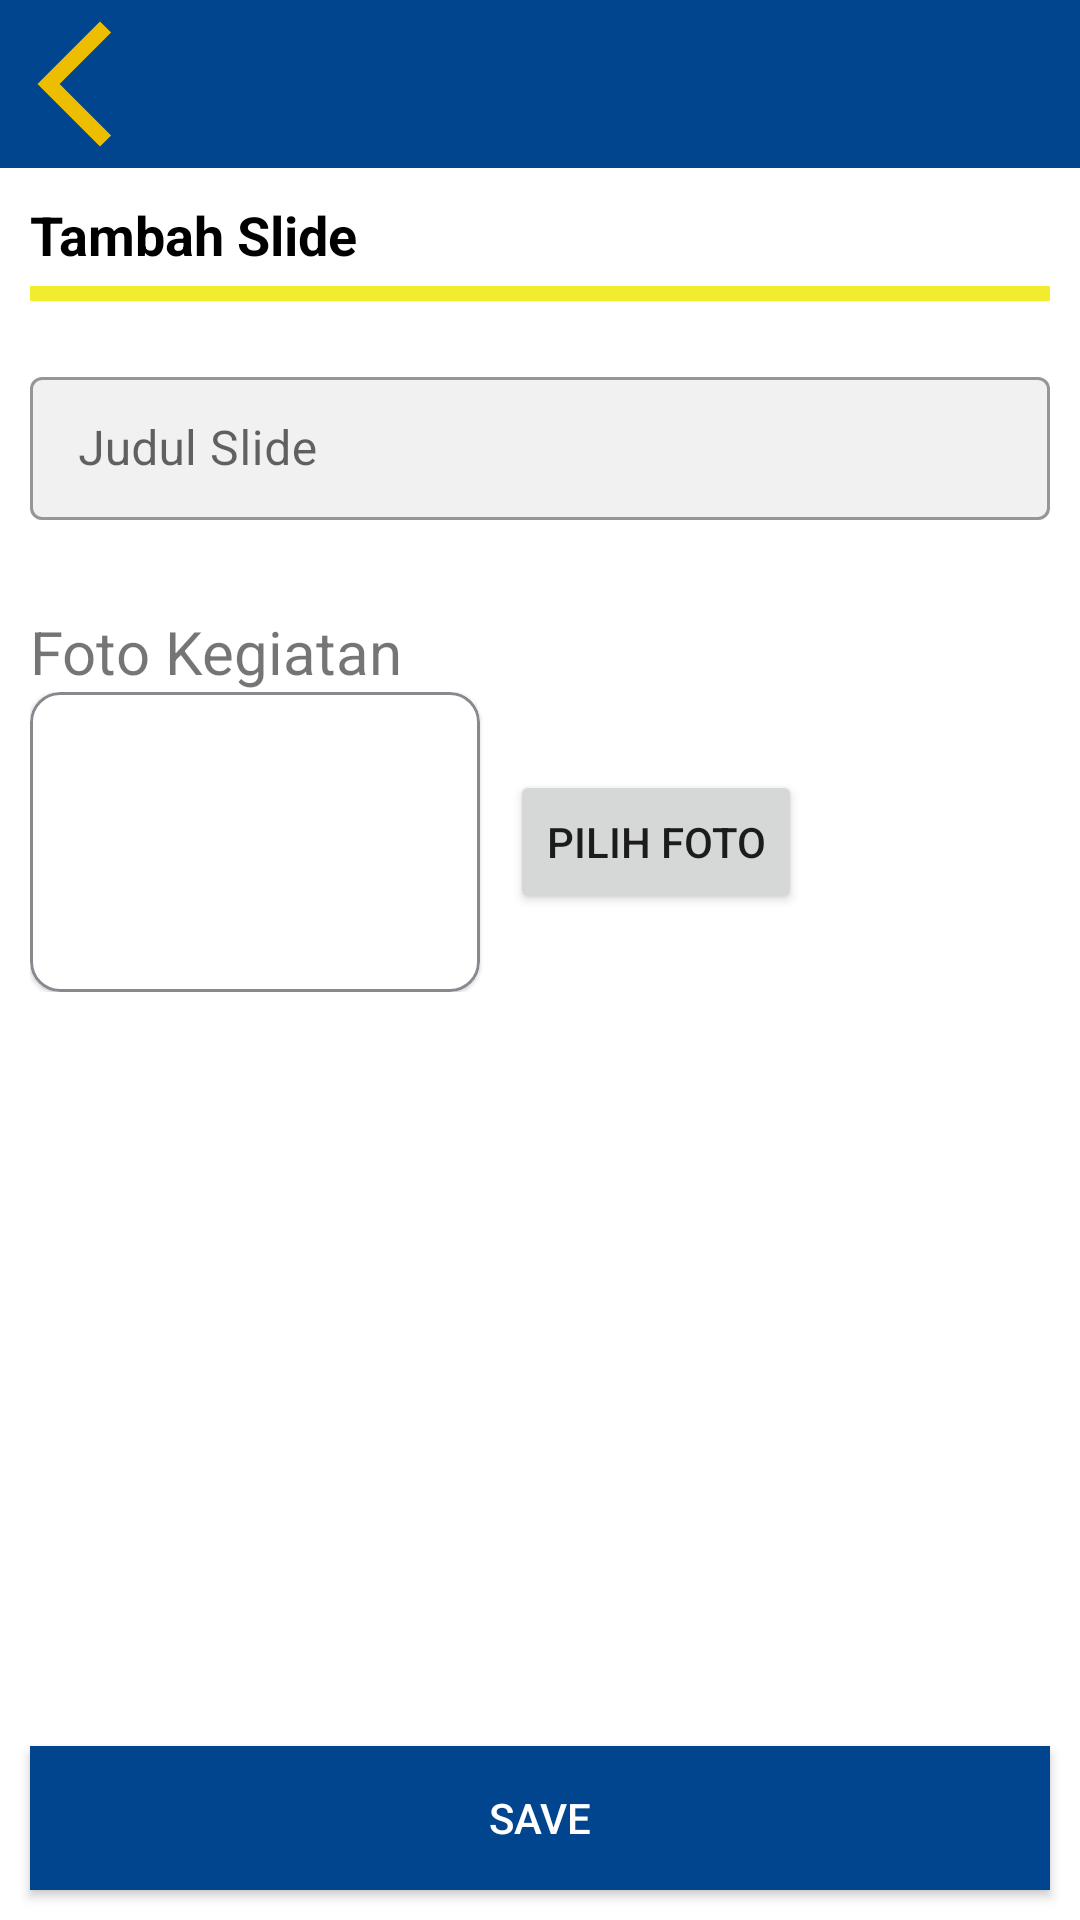

Icon bounding boxes for this 1080px×1920px phone screenshot, format detection(x1, y1, x2, y2):
arrow back: detection(37, 21, 111, 147)
